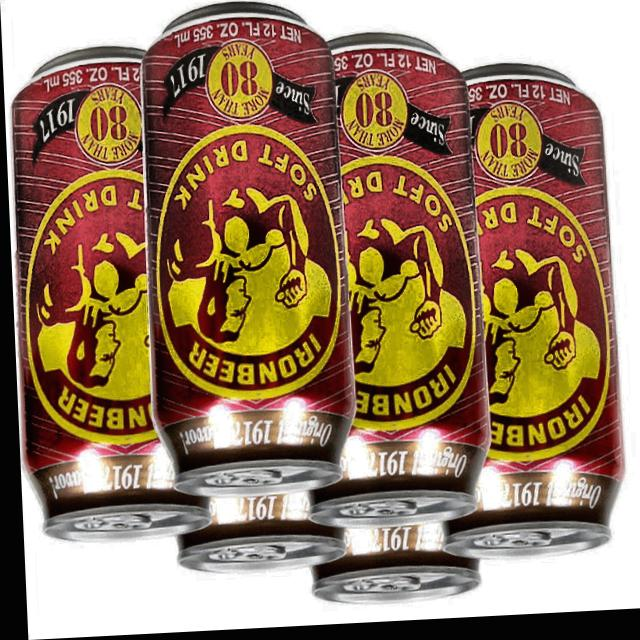can: (136, 0, 359, 505), (412, 58, 628, 573), (2, 37, 212, 553), (281, 28, 493, 537), (161, 482, 347, 584), (296, 519, 478, 618)
